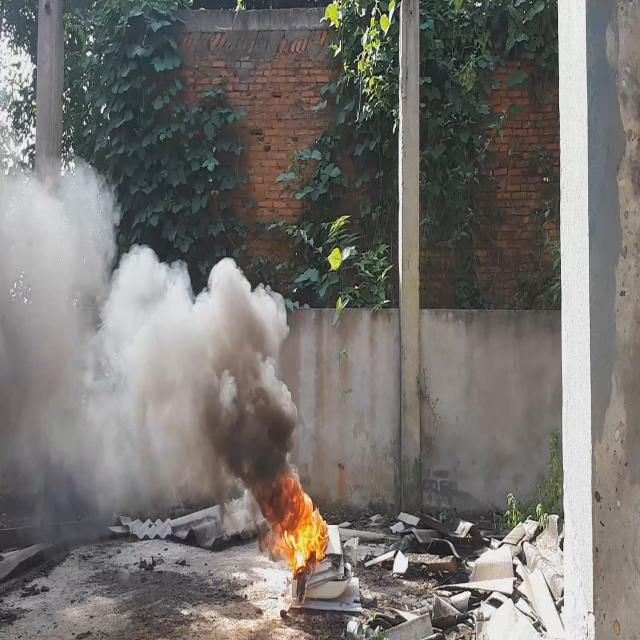Fire: (266, 472, 332, 575)
Smoke: (0, 155, 300, 520)
